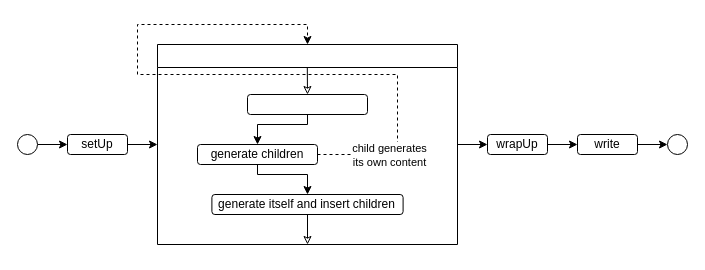
The diagram is 705 pixels wide and 270 high, and some of its shapes have lost their labels. Each missing label, with the box of its shape:
get semantic data: (246, 94, 368, 114)
Node Tree-Walker: (156, 44, 458, 244)
